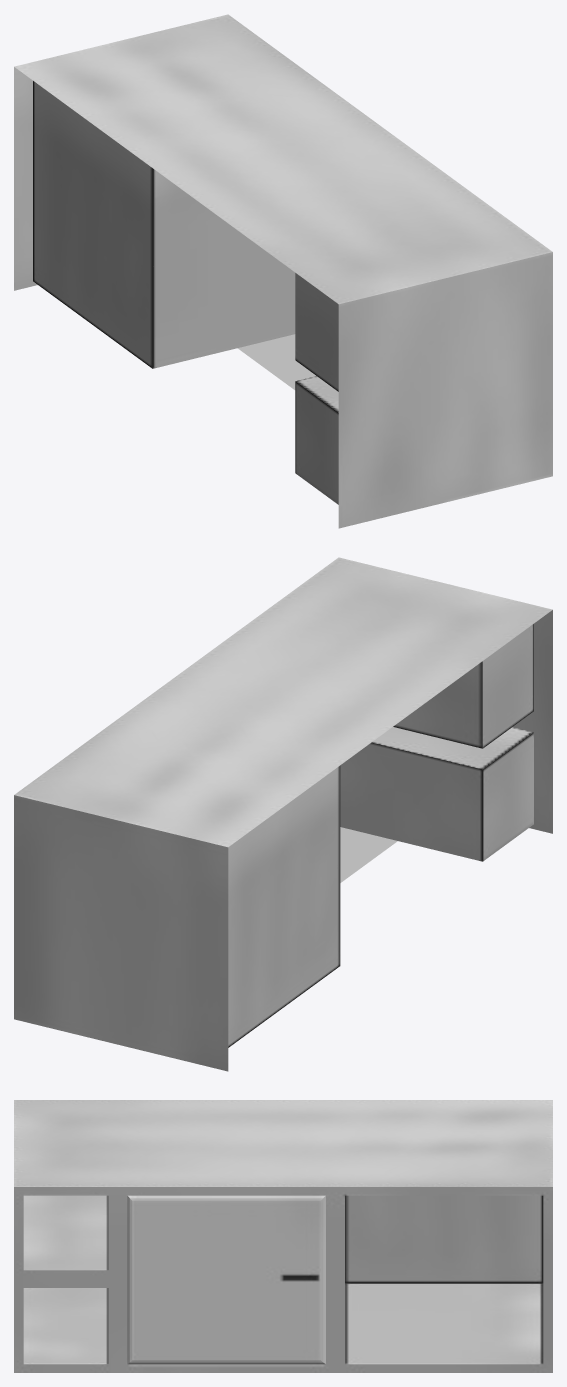
The model's file is mobile tv.FBX.
The picture shows the model from 3 angles, top to bottom: view 1: azimuth 30°, elevation 25°; view 2: azimuth 150°, elevation 25°; view 3: azimuth 270°, elevation 25°; orthographic projection. The views are drawn at different scales.
Visible parts, largest first — view 1: mobile tv; view 2: mobile tv; view 3: mobile tv.
Part boxes in pixels (x1=…): mobile tv: x1=14, y1=14, x2=552, y2=528; mobile tv: x1=14, y1=557, x2=552, y2=1071; mobile tv: x1=14, y1=1100, x2=552, y2=1372.
Bounding box in the file's own units: 0.807 × 0.8 × 2.1.
